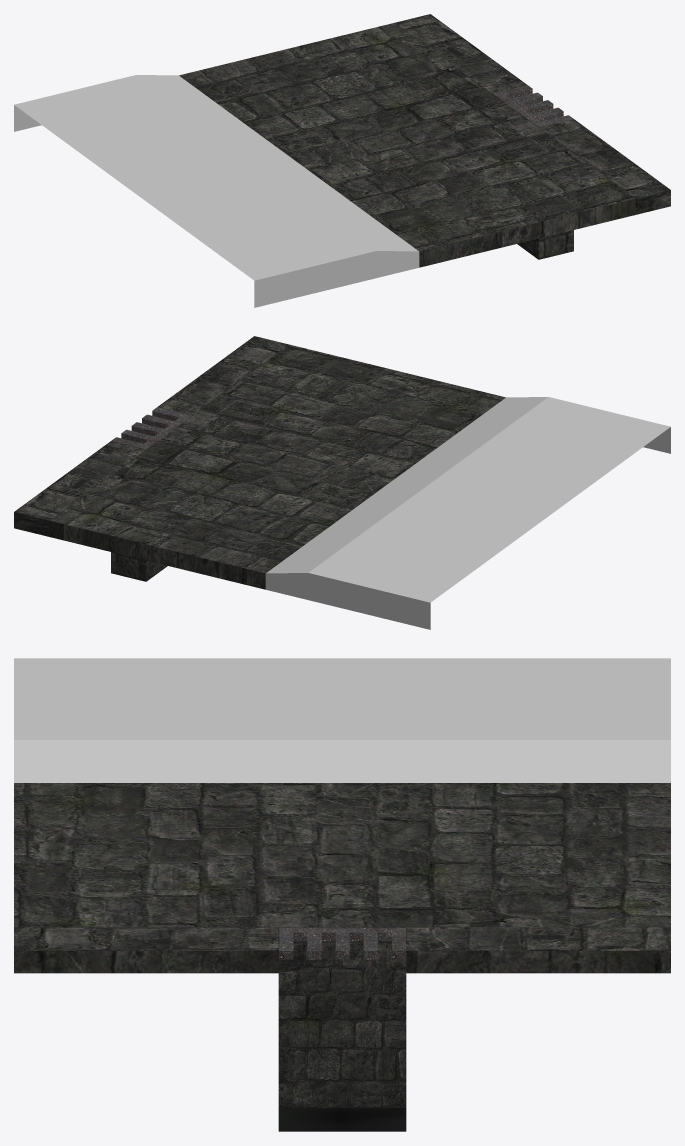
Rendered from alley_01_sewer.DAE.
The picture shows the model from 3 angles, top to bottom: view 1: azimuth 30°, elevation 25°; view 2: azimuth 150°, elevation 25°; view 3: azimuth 270°, elevation 25°; orthographic projection. The views are drawn at different scales.
Parts seen in each view (by area): view 1: Box053, Box052, Box029; view 2: Box053, Box052, Box029; view 3: Box053, Box052, Box029.
Part boxes in pixels (<box>): Box053: <box>179,14,670,267</box>; Box052: <box>14,75,419,307</box>; Box029: <box>492,85,573,127</box>; Box053: <box>14,336,505,589</box>; Box052: <box>265,397,670,629</box>; Box029: <box>111,407,191,449</box>; Box053: <box>14,783,670,1131</box>; Box052: <box>14,658,670,782</box>; Box029: <box>279,927,405,959</box>.
Bounding box in the file's own units: 4 × 1.31 × 4.
